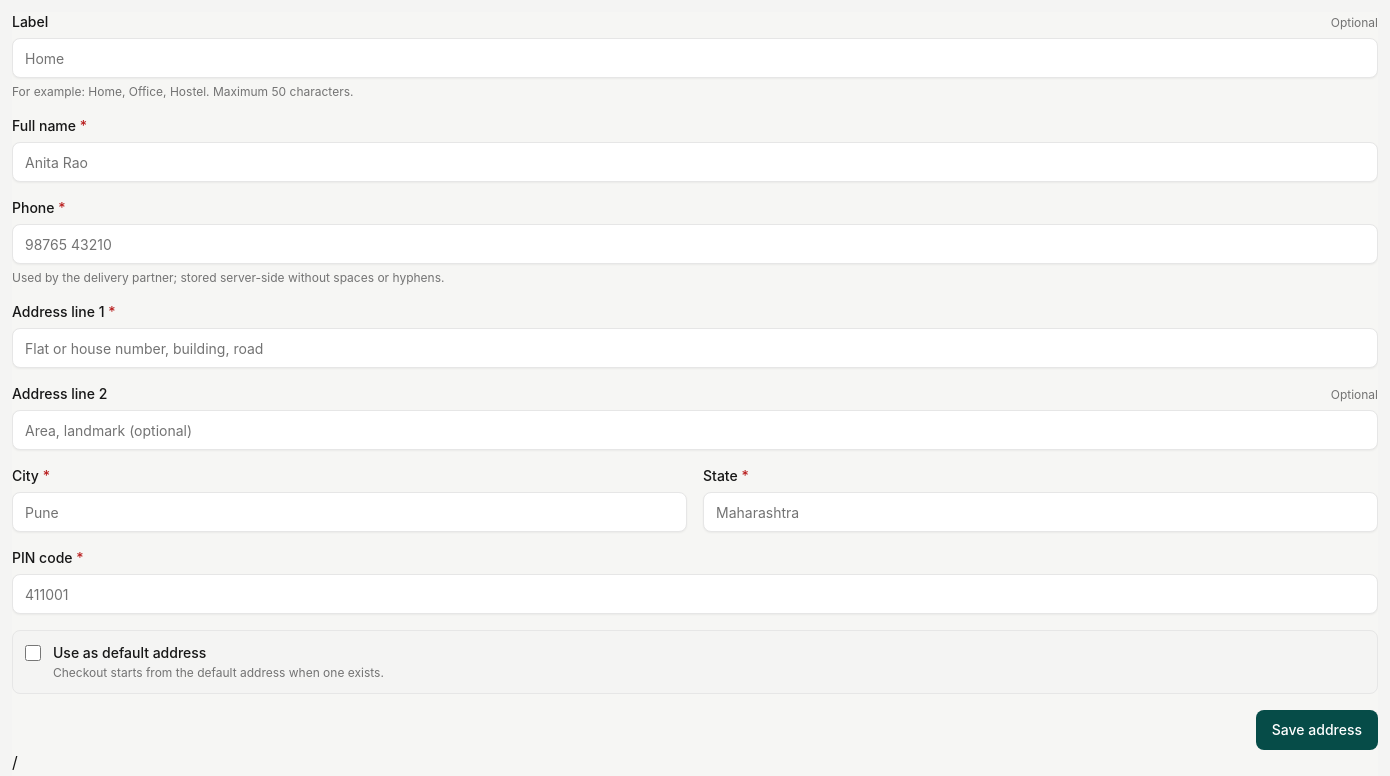
AddressForm › surfaces client-side validation for every required field
Step 1. Click the button "Save address" → (1317, 730), box [1256,710,1378,750]
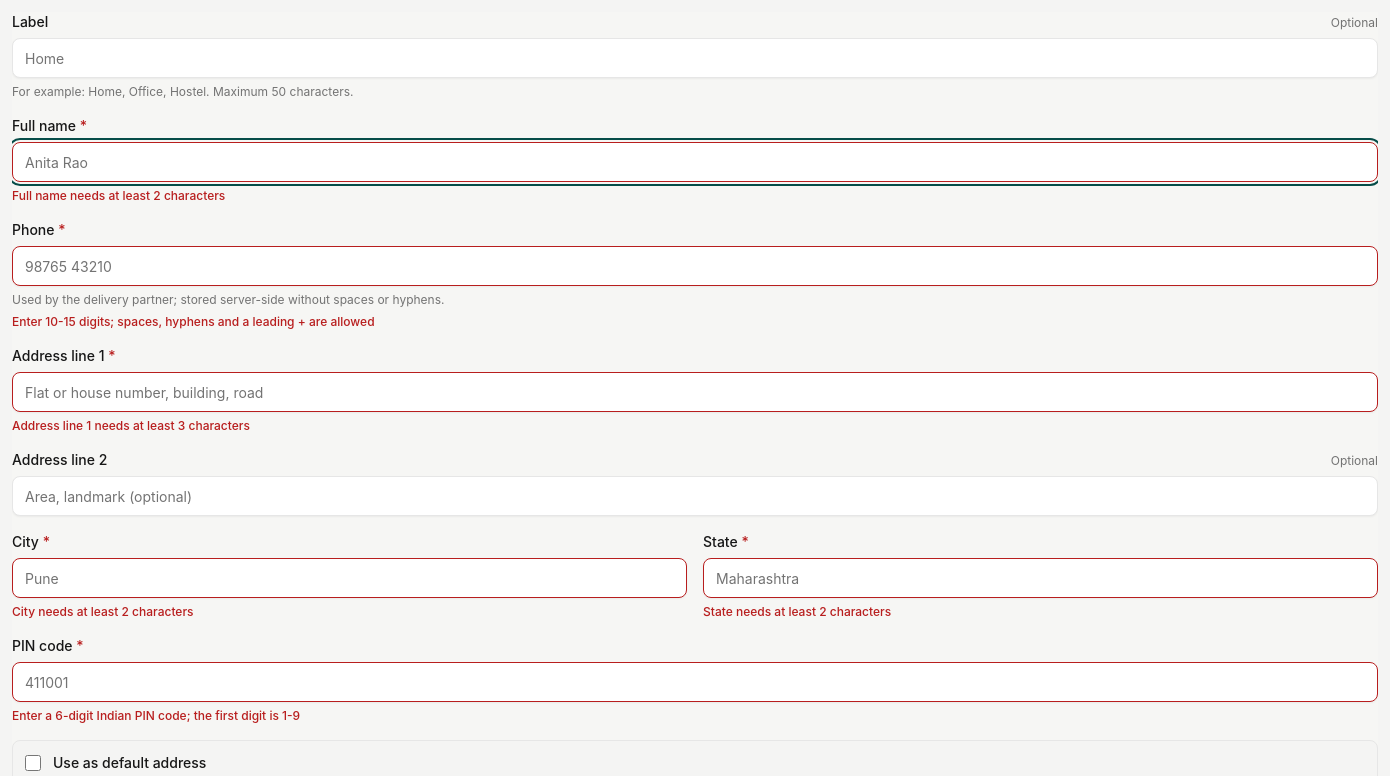
Check: the text "Full name needs at least 2 characters" is shown, box [12,188,225,203]
Check: the text "Enter 10-15 digits; spaces, hyphens and a leading + are allowed" is shown, box [12,314,375,329]
Check: the text "Address line 1 needs at least 3 characters" is shown, box [12,418,250,433]
